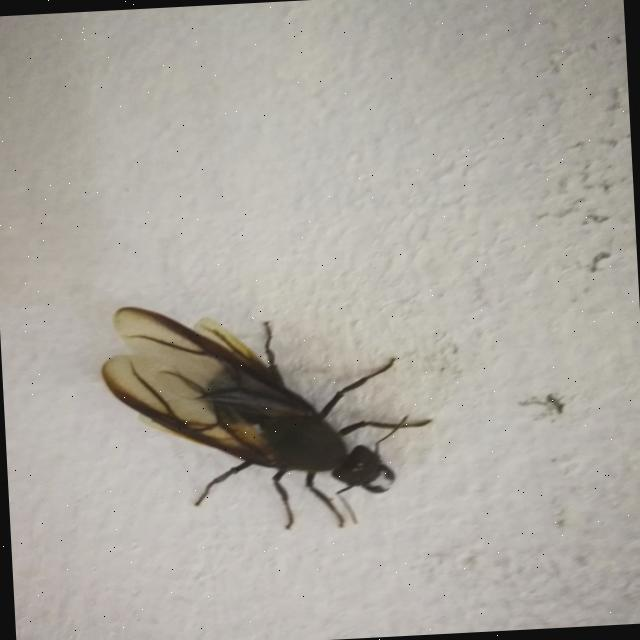Alive-Female-Alate: (96, 289, 438, 542)
